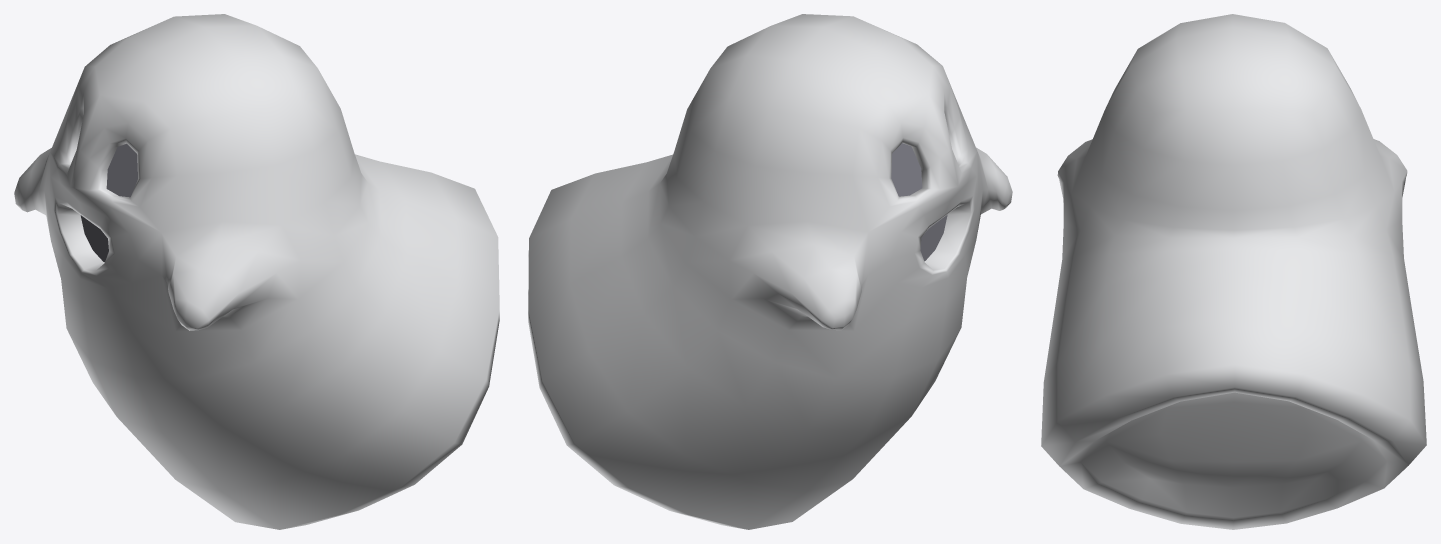
File: Emotion_Ghost.fbx
3 renders of one model, left to right at view 1: azimuth 30°, elevation 25°; view 2: azimuth 150°, elevation 25°; view 3: azimuth 270°, elevation 25°, orthographic. The views are drawn at different scales.
Parts seen in each view (by area): view 1: Ghost; view 2: Ghost; view 3: Ghost.
Part boxes in pixels (x1,y1,x2,y2): Ghost: (14,14,499,529); Ghost: (528,14,1012,529); Ghost: (1041,14,1426,529).
Size of the model in its own units: 49.46 by 58.64 by 43.23.
